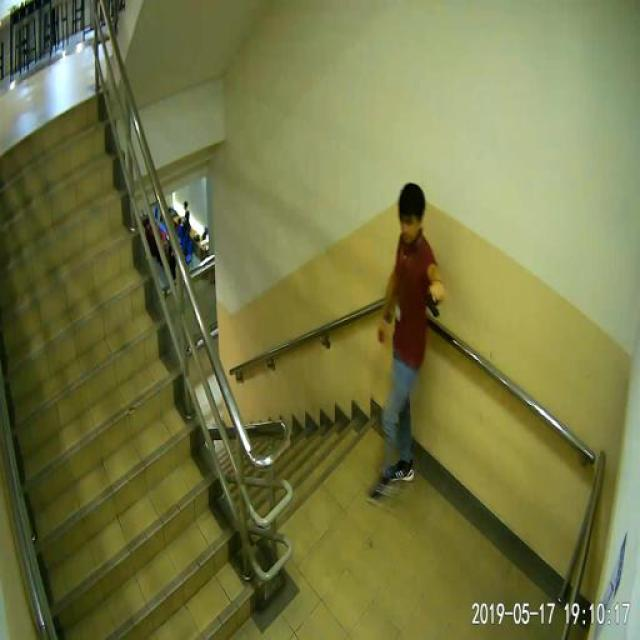Gun: (418, 277, 453, 335)
